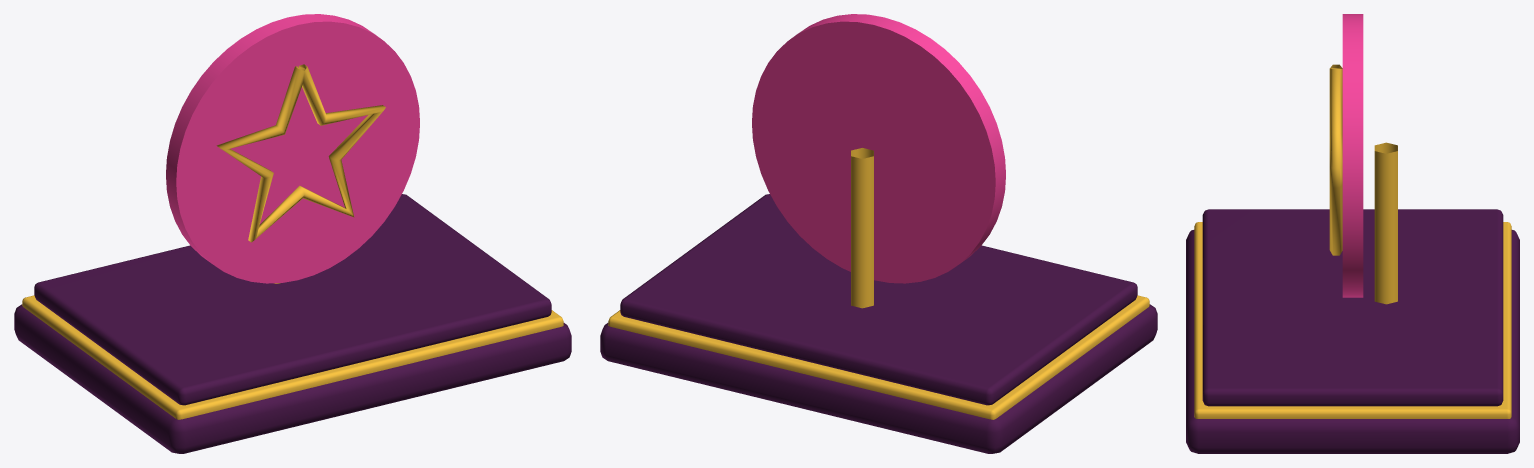
Rendered from chess.insignia.star.glb.
3 views of the same model, side by side, from view 1: azimuth 30°, elevation 25°; view 2: azimuth 150°, elevation 25°; view 3: azimuth 270°, elevation 25° (orthographic).
Parts seen in each view (by area): view 1: display_top, insignia_disc, display_base, brass_band, embroidered_crest; view 2: display_top, insignia_disc, display_base, brass_band, medallion_support; view 3: display_top, display_base, brass_band, insignia_disc, medallion_support, embroidered_crest.
Part boxes in pixels (<box>): display_top: <box>34,194,551,405</box>; insignia_disc: <box>166,14,419,283</box>; display_base: <box>14,304,571,453</box>; brass_band: <box>22,295,563,419</box>; embroidered_crest: <box>216,64,385,242</box>; display_top: <box>620,194,1137,405</box>; insignia_disc: <box>752,14,1005,283</box>; display_base: <box>600,304,1157,453</box>; brass_band: <box>608,295,1149,419</box>; medallion_support: <box>851,148,873,308</box>; display_top: <box>1202,209,1503,406</box>; display_base: <box>1186,230,1519,453</box>; brass_band: <box>1194,222,1511,418</box>; insignia_disc: <box>1342,14,1363,297</box>; medallion_support: <box>1374,142,1397,304</box>; embroidered_crest: <box>1329,64,1342,255</box>.
Bounding box in the file's own units: 0.672 × 0.528 × 0.48.
